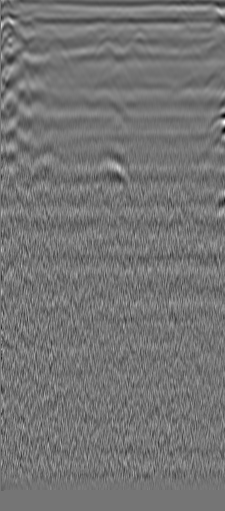오수: (41, 35, 69, 60)
우수: (176, 21, 196, 41)
